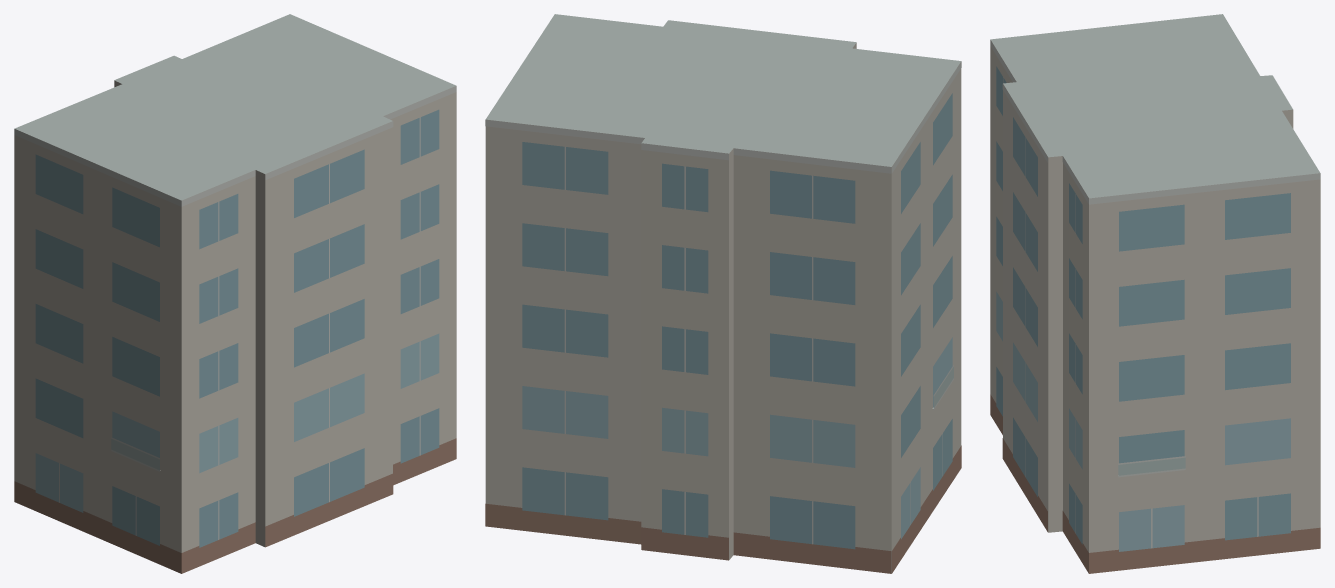
The model's file is survey-upis-32703250.glb.
3 views of the same model, side by side, from view 1: azimuth 30°, elevation 25°; view 2: azimuth 150°, elevation 25°; view 3: azimuth 270°, elevation 25° (orthographic). The views are drawn at different scales.
Parts seen in each view (by area): view 1: survey-upis-32703250.tmp; view 2: survey-upis-32703250.tmp; view 3: survey-upis-32703250.tmp.
Part boxes in pixels (left/top/right/bottom): survey-upis-32703250.tmp: left=14, top=14, right=456, bottom=573; survey-upis-32703250.tmp: left=485, top=14, right=961, bottom=573; survey-upis-32703250.tmp: left=990, top=14, right=1320, bottom=573.
Size of the model in its own units: 15.44 by 14.65 by 11.69.
